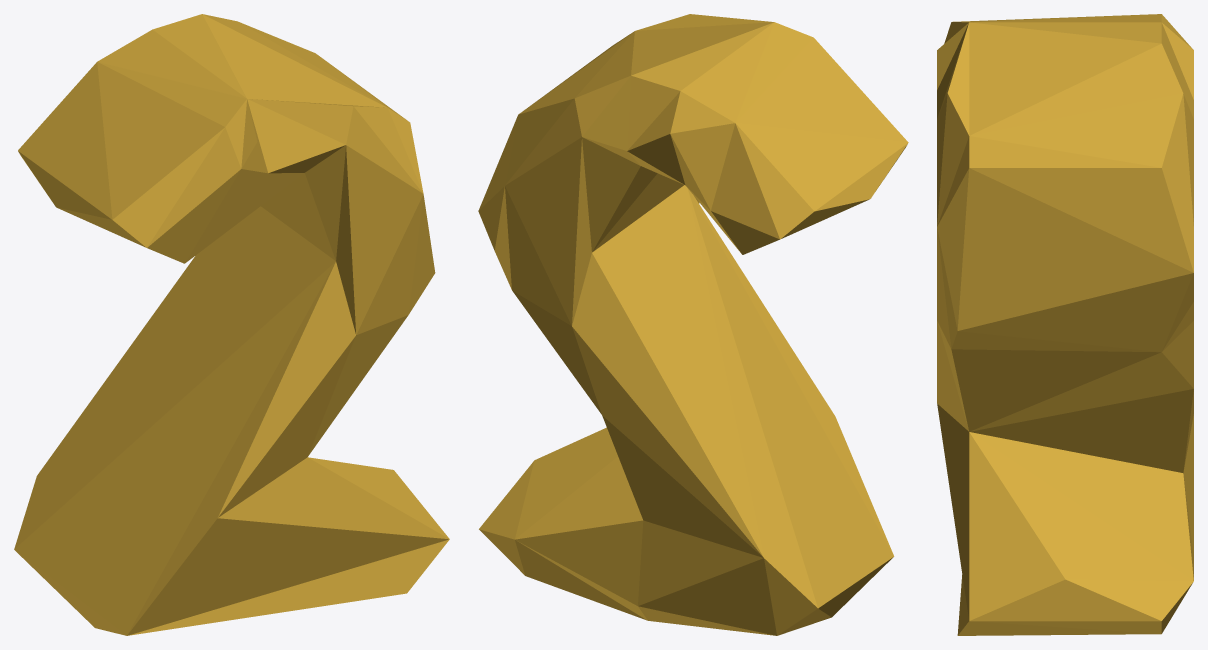
The picture shows the model from 3 angles, left to right: view 1: azimuth 30°, elevation 25°; view 2: azimuth 150°, elevation 25°; view 3: azimuth 270°, elevation 25°; orthographic projection. The views are drawn at different scales.
Parts seen in each view (by area): view 1: 2_0057D0_0; view 2: 2_0057D0_0; view 3: 2_0057D0_0.
Boxes of the visible parts, x1=… form: 2_0057D0_0: x1=14, y1=14, x2=449, y2=635; 2_0057D0_0: x1=478, y1=14, x2=908, y2=635; 2_0057D0_0: x1=937, y1=14, x2=1193, y2=635.
Bounding box in the file's own units: 47.53 × 71.3 × 30.
